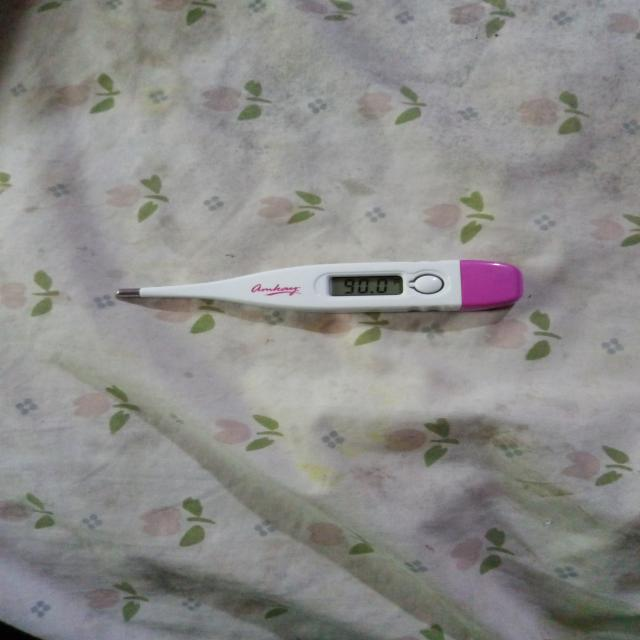display: (330, 275, 403, 297)
frame: (342, 276, 392, 295)
gauge: (116, 260, 523, 313)
